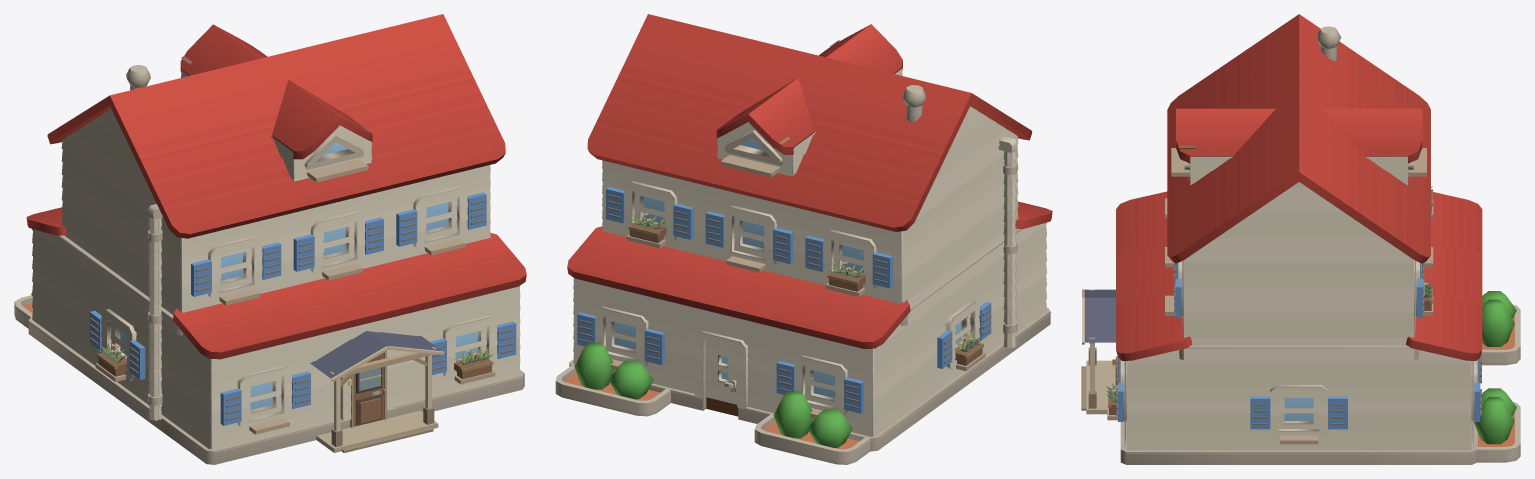
File: house-t-white.glb
3 renders of one model, left to right at view 1: azimuth 30°, elevation 25°; view 2: azimuth 150°, elevation 25°; view 3: azimuth 270°, elevation 25°, orthographic. The views are drawn at different scales.
Visible parts, largest first — view 1: building-type-t, Handlaid_roof_entry_porch_and_joinery, Details; view 2: building-type-t, Handlaid_roof_entry_porch_and_joinery, Details; view 3: building-type-t, Handlaid_roof_entry_porch_and_joinery, Details.
Boxes of the visible parts, x1,y1,x2,y2 form: building-type-t: [14, 14, 526, 464]; Handlaid_roof_entry_porch_and_joinery: [14, 56, 523, 452]; Details: [89, 192, 516, 425]; building-type-t: [555, 14, 1052, 464]; Handlaid_roof_entry_porch_and_joinery: [573, 40, 1051, 449]; Details: [577, 187, 991, 413]; building-type-t: [1116, 14, 1520, 464]; Handlaid_roof_entry_porch_and_joinery: [1081, 145, 1505, 453]; Details: [1118, 263, 1480, 429].
Bounding box in the file's own units: 1.34 × 1.16 × 1.53.
35 materials, 1 textured.
